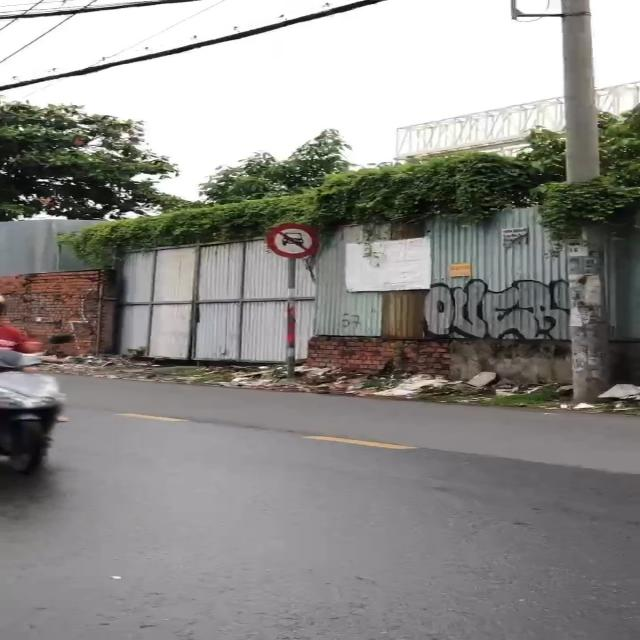Bien bao cam xe oto: (263, 220, 322, 260)
